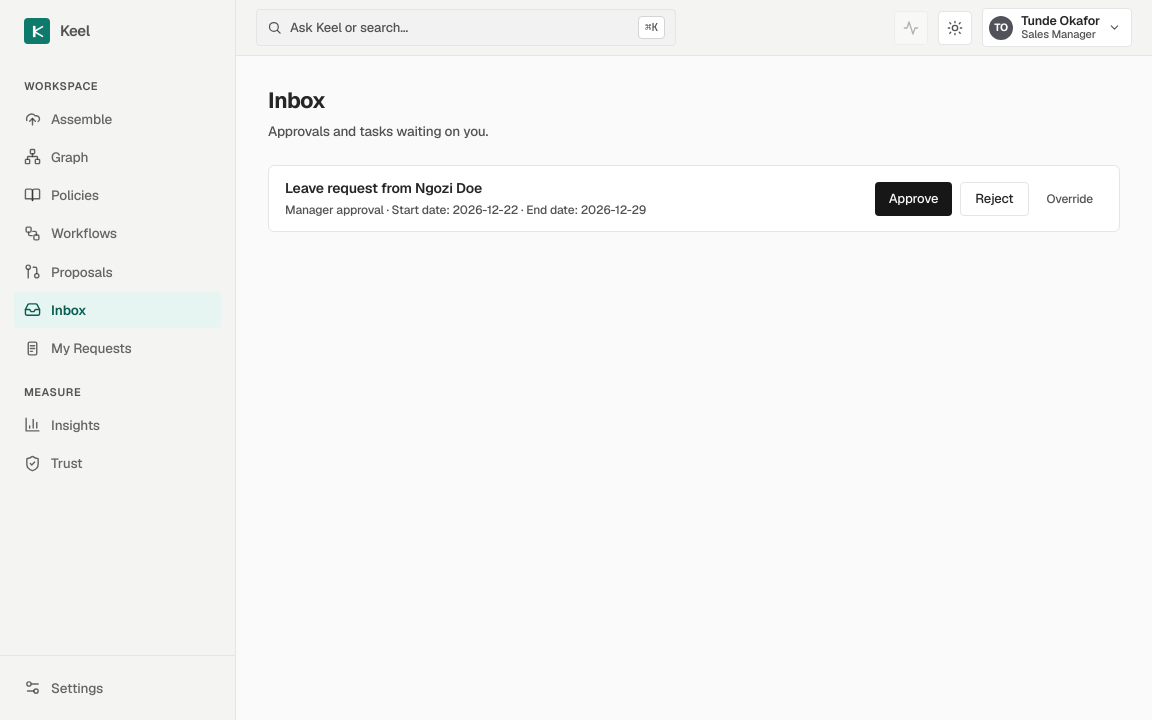
Test case: /inbox › as a plain employee › approves a step run assigned to them and refreshes the list
Click the button "Approve". click: click(914, 199)
box: [875,182,952,216]
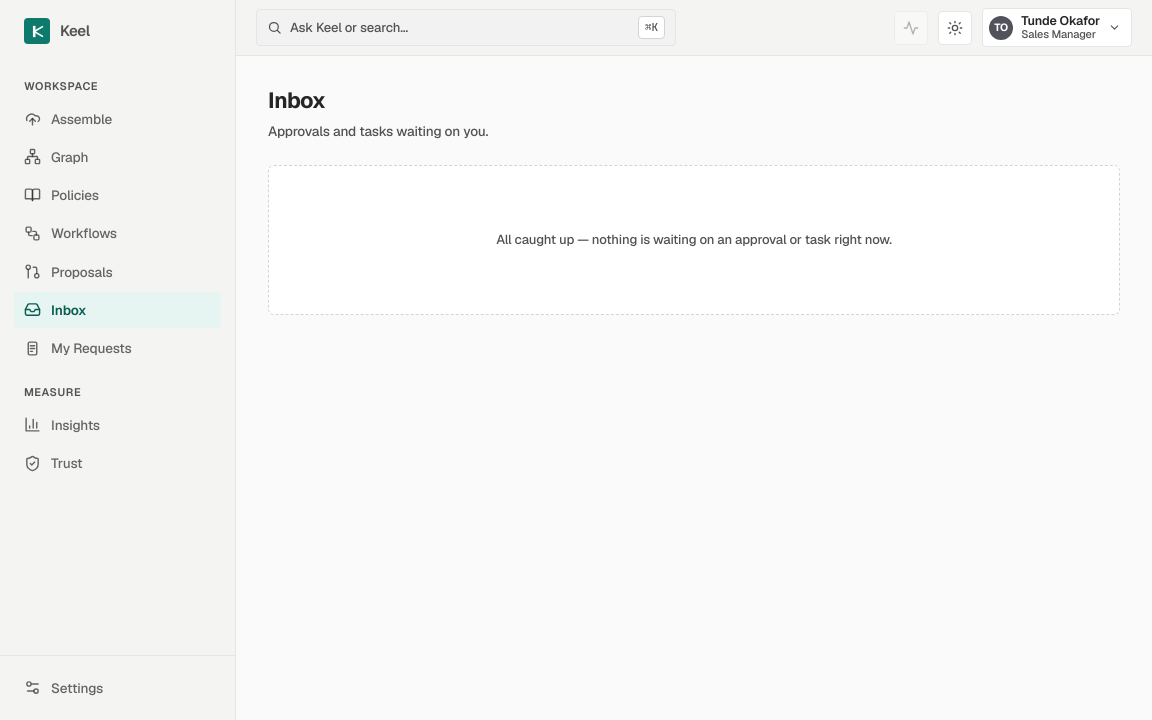
Expected: the text "All caught up" is shown, [496,231,892,248]
